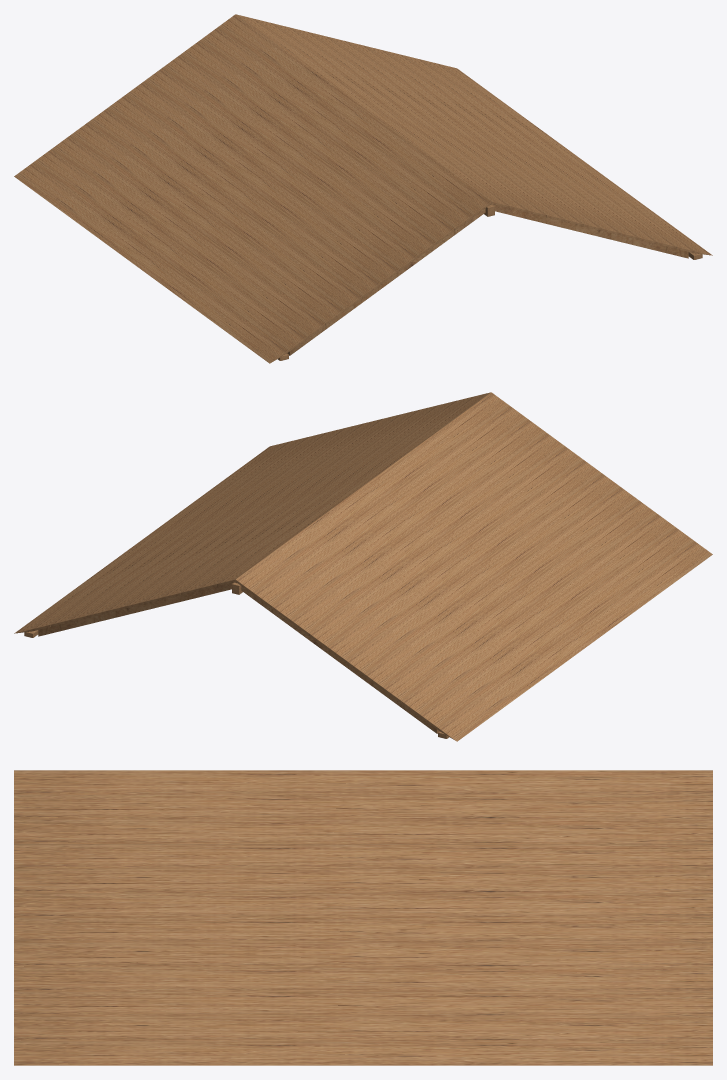
The model's file is SM_FacilityRooms_WoodRoof600.fbx.
3 views of the same model, one above another, from view 1: azimuth 30°, elevation 25°; view 2: azimuth 150°, elevation 25°; view 3: azimuth 270°, elevation 25° (orthographic). The views are drawn at different scales.
Visible parts, largest first — view 1: SM_FacilityRooms_WoodRoof600; view 2: SM_FacilityRooms_WoodRoof600; view 3: SM_FacilityRooms_WoodRoof600.
Boxes of the visible parts, <box> form: SM_FacilityRooms_WoodRoof600: <box>14,14,712,363</box>; SM_FacilityRooms_WoodRoof600: <box>14,392,712,741</box>; SM_FacilityRooms_WoodRoof600: <box>14,770,712,1065</box>.
Size of what is drawn, in the model's own units: 600 by 600 by 140.
